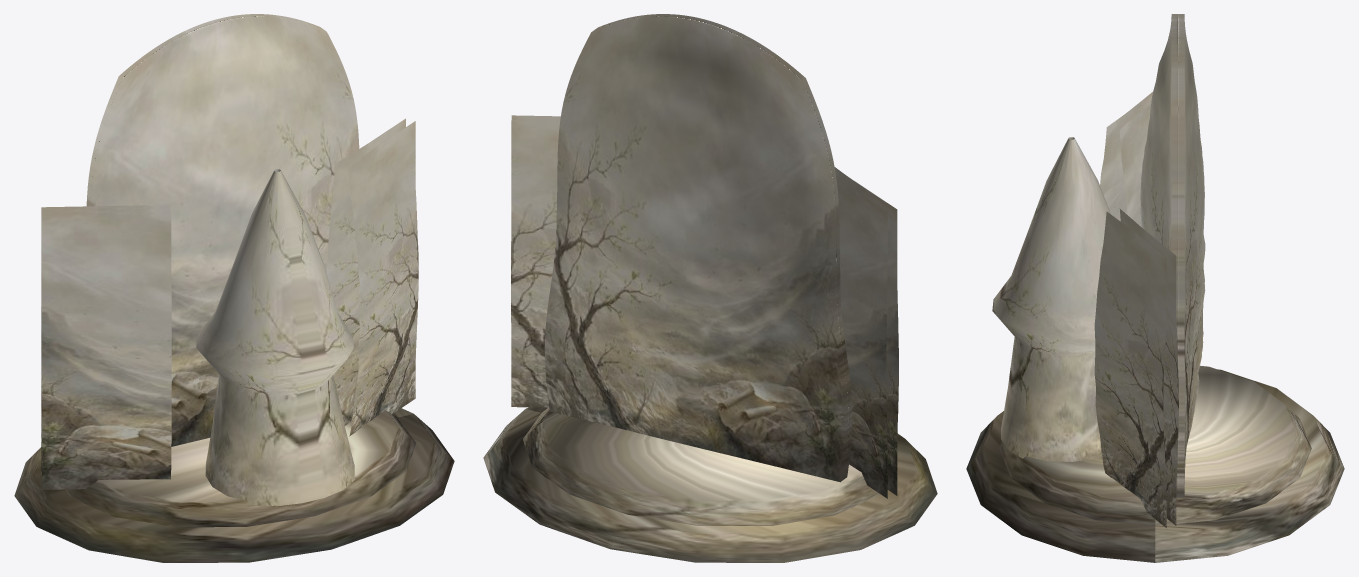
Rendered from can-these-bones-live-32.glb.
The picture shows the model from 3 angles, left to right: view 1: azimuth 30°, elevation 25°; view 2: azimuth 150°, elevation 25°; view 3: azimuth 270°, elevation 25°; orthographic projection. The views are drawn at different scales.
Parts seen in each view (by area): view 1: PaintingSculptureMonument; view 2: PaintingSculptureMonument; view 3: PaintingSculptureMonument.
Boxes of the visible parts, x1,y1,x2,y2 form: PaintingSculptureMonument: (14,14,454,562); PaintingSculptureMonument: (483,14,937,562); PaintingSculptureMonument: (966,14,1344,562).
Size of the model in its own units: 2.76 by 2.99 by 2.35.
Materials: 1 (1 with a texture image).
